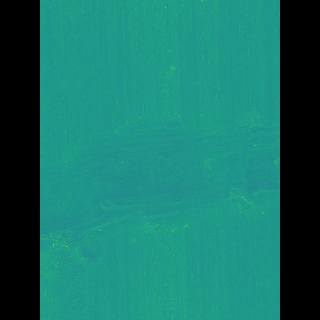Loch: (70, 109, 250, 262)
